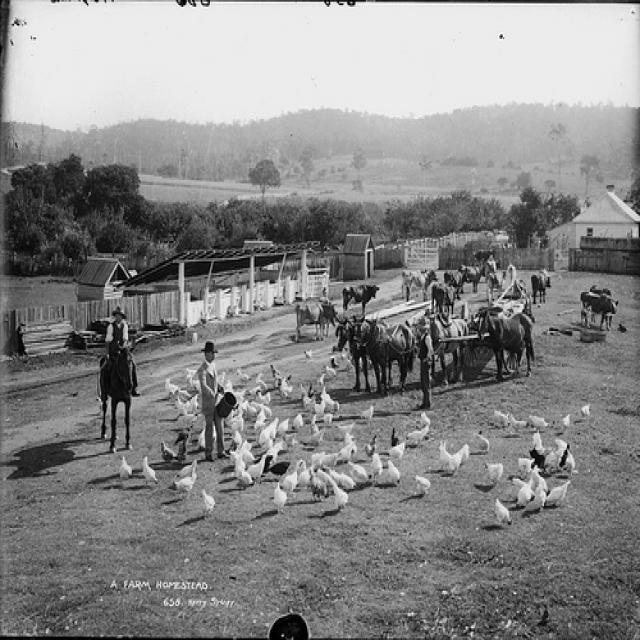cow: (577, 289, 617, 329), (293, 300, 335, 338), (398, 265, 438, 302), (340, 280, 379, 312), (588, 282, 611, 324), (430, 280, 460, 312), (457, 263, 485, 292), (529, 267, 551, 302), (484, 268, 506, 299), (442, 267, 460, 289), (472, 246, 494, 260)
